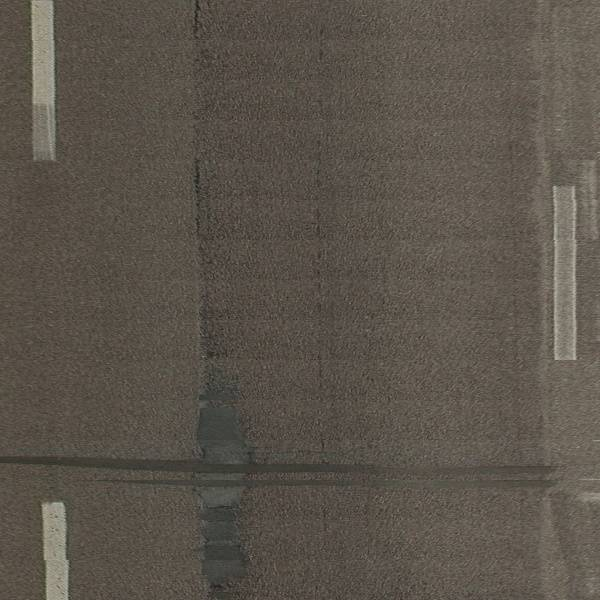road_damage: (192, 368, 254, 591), (16, 457, 563, 479), (188, 154, 214, 290)
